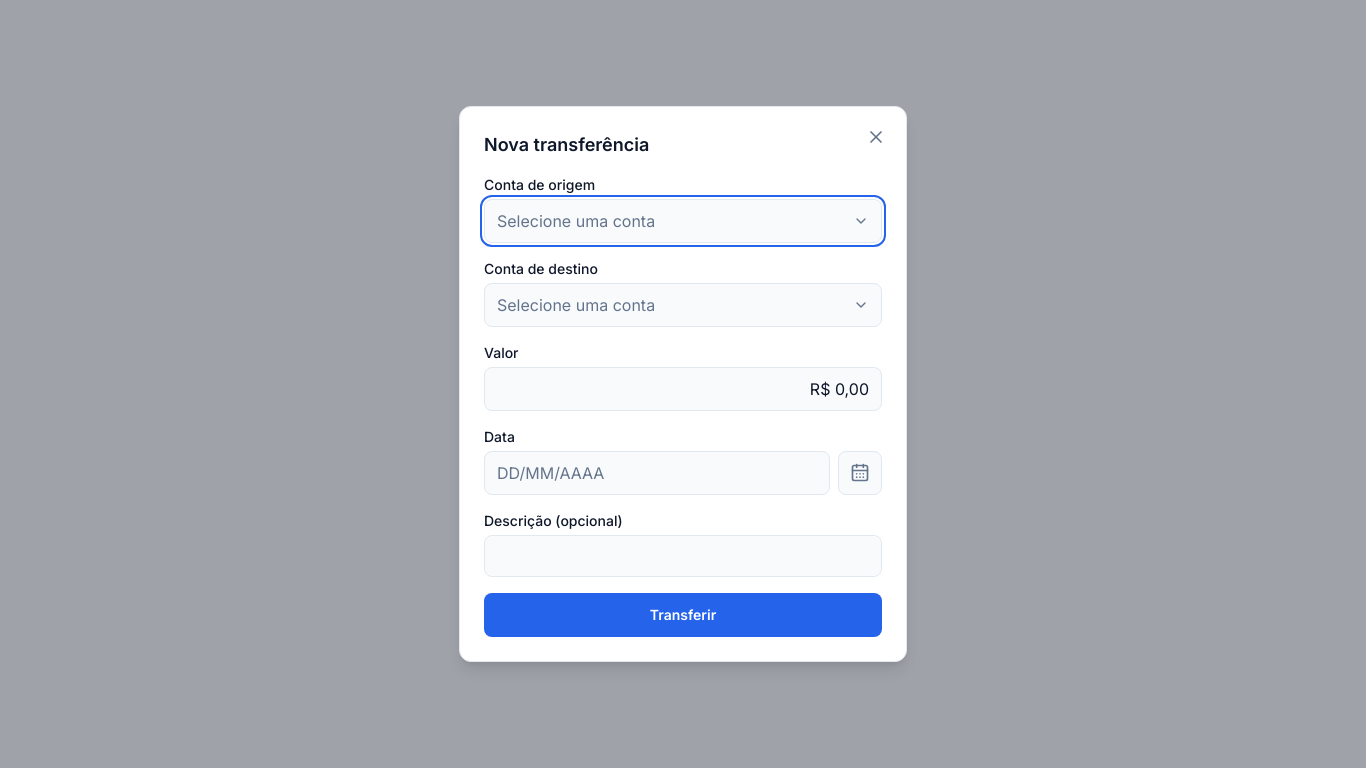
FormularioTransferencia › destaca o campo de destino quando a API responde com contas iguais
Click the dropdown labelled "Selecione uma conta" below "Conta de origem" at (576, 221), box [484,199,882,243]
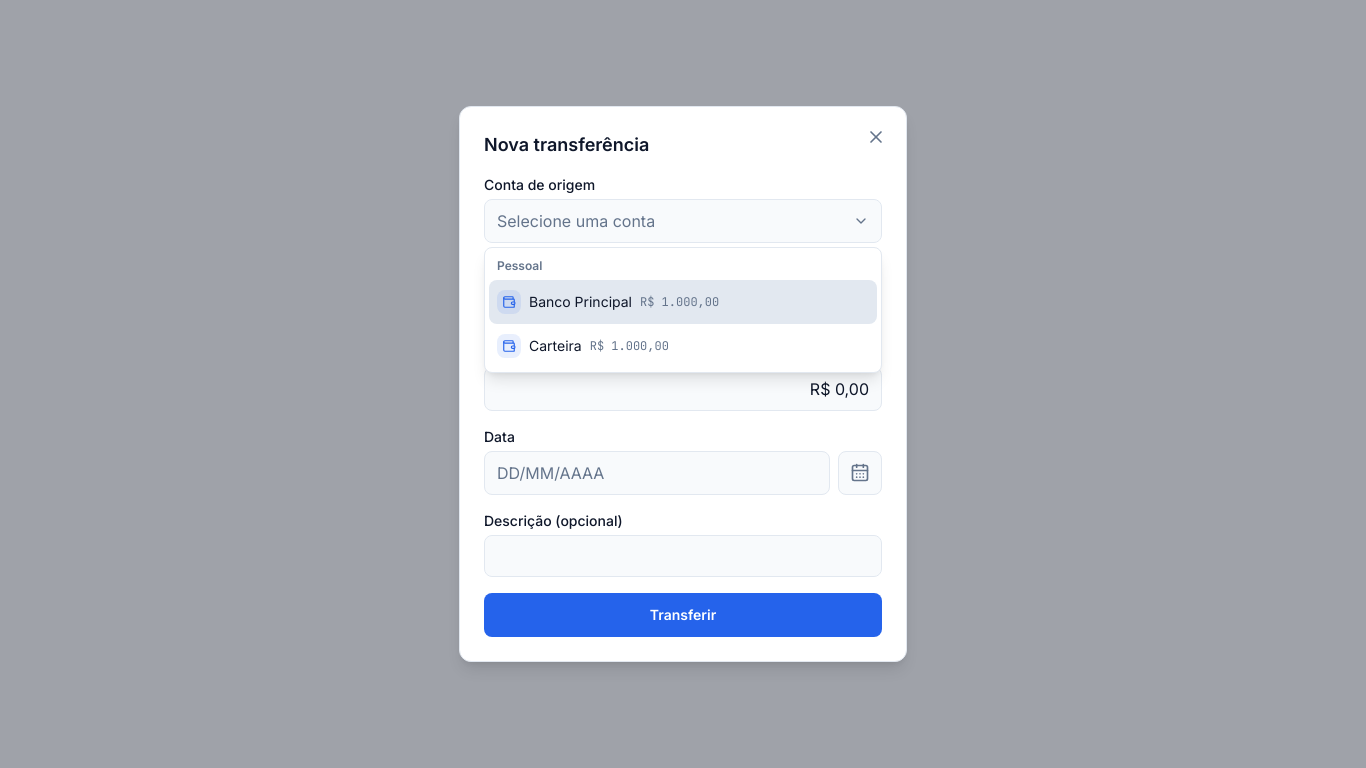
Click the option "Banco Principal R$ 1.000,00" at (683, 302), box [489,280,877,324]
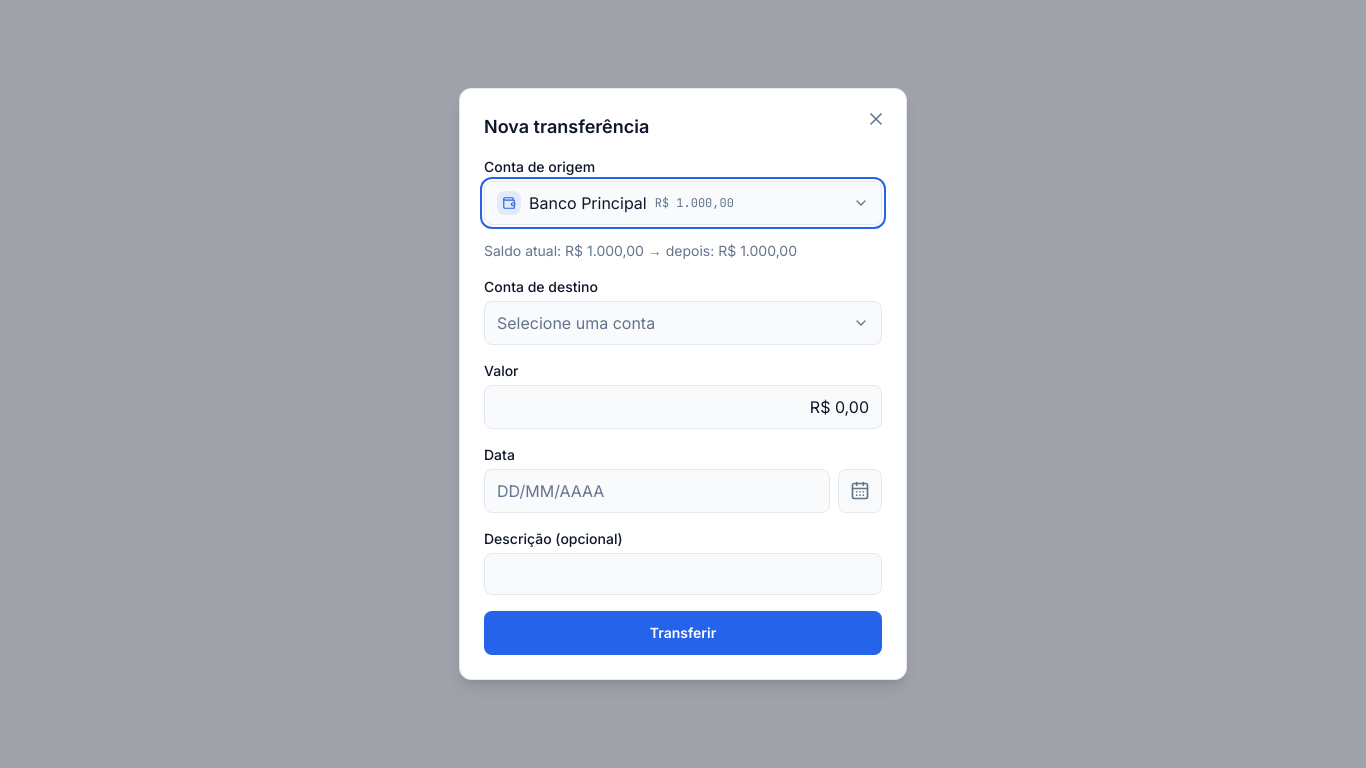
Click the dropdown labelled "Selecione uma conta" at (576, 323), box [484,301,882,345]
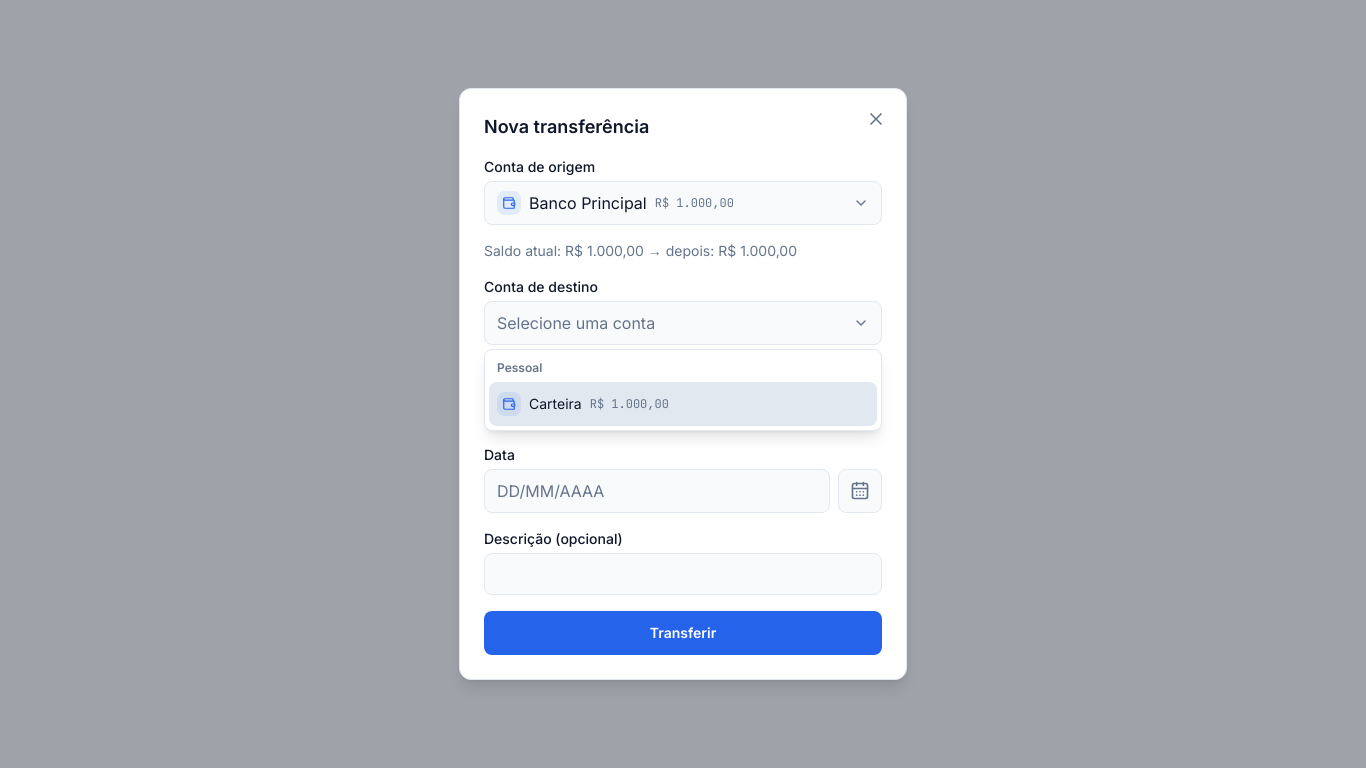
Click the option "Carteira R$ 1.000,00" at (555, 404), box [489,382,877,426]
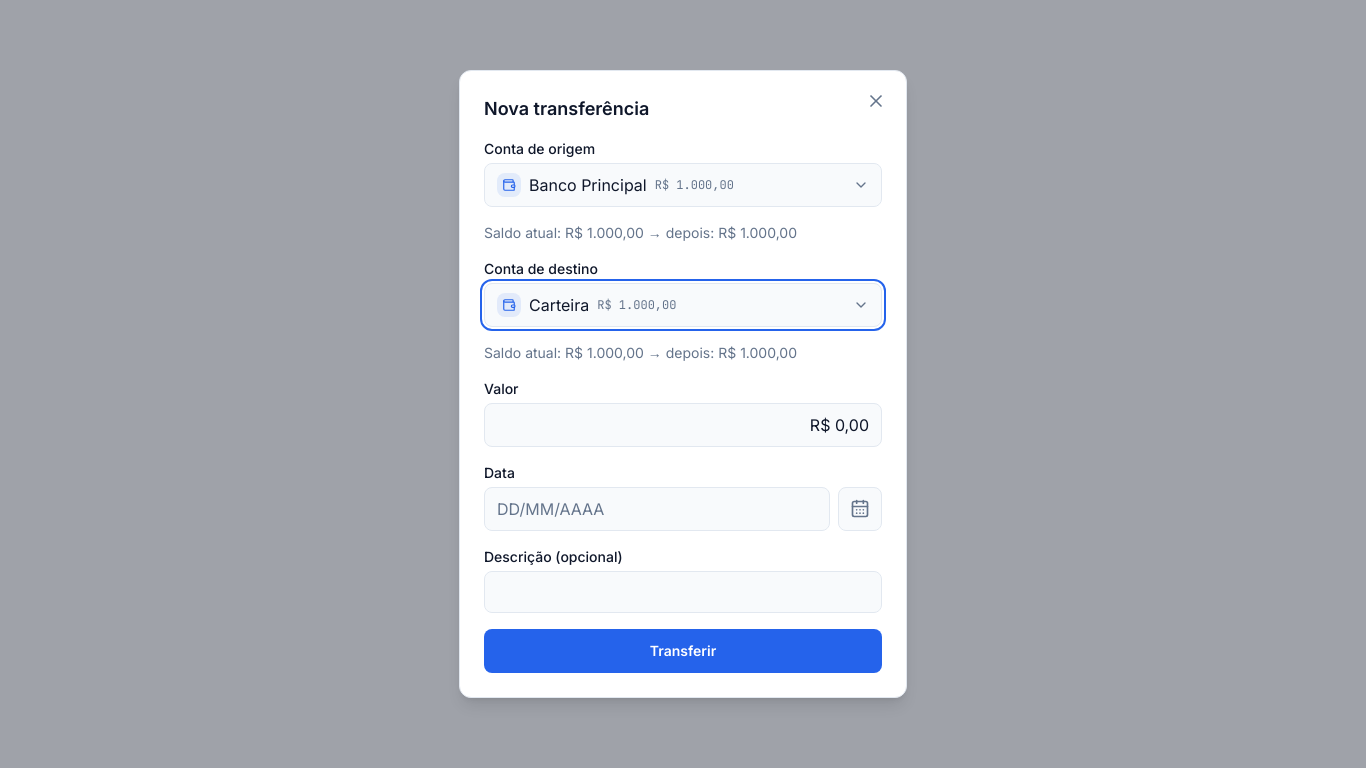
Replace the text in the field labelled "Valor" with "10000" at (683, 425), box [484,403,882,447]
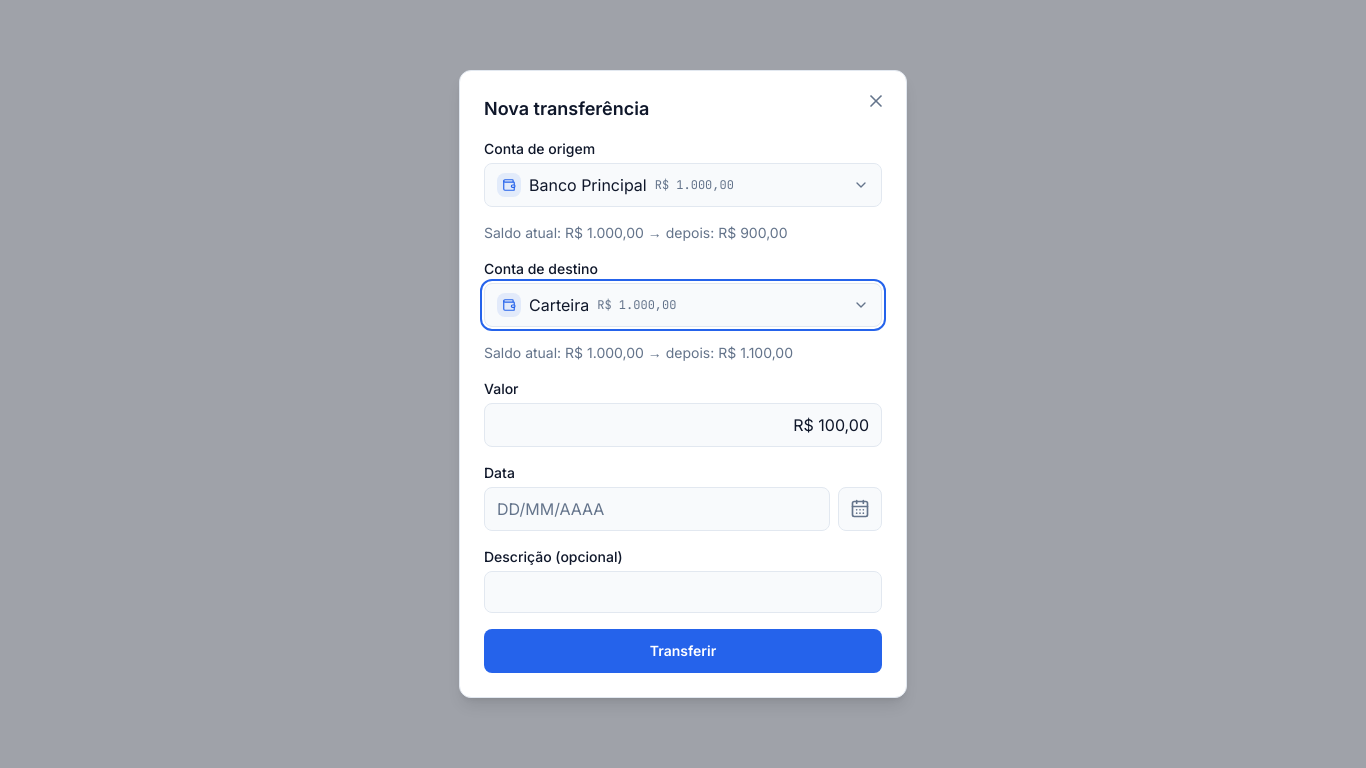
Type "06/08/2026" into the field labelled "Data" at (657, 509), box [484,487,830,531]
Click the button "Transferir" at (683, 651), box [484,629,882,673]
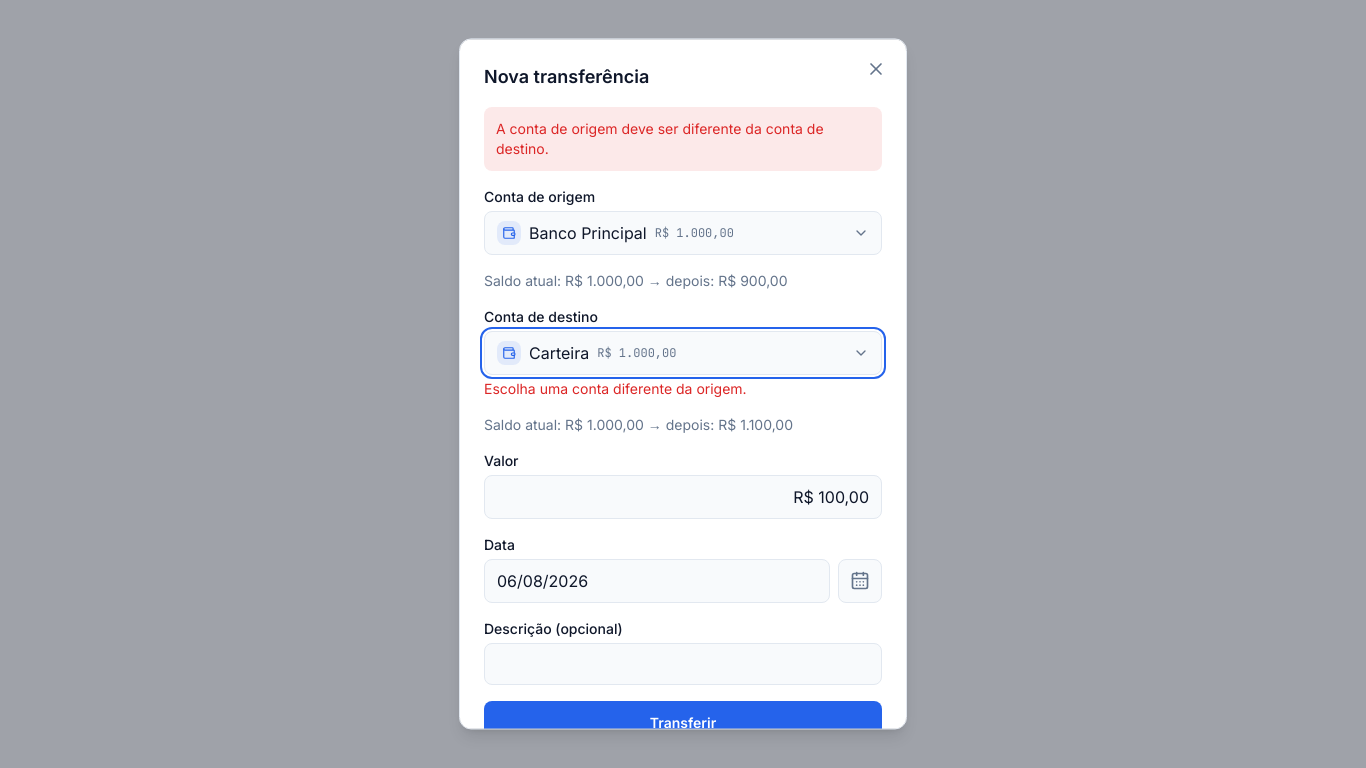
Result: the text "Escolha uma conta diferente da origem." is shown at [484,380,747,397]
